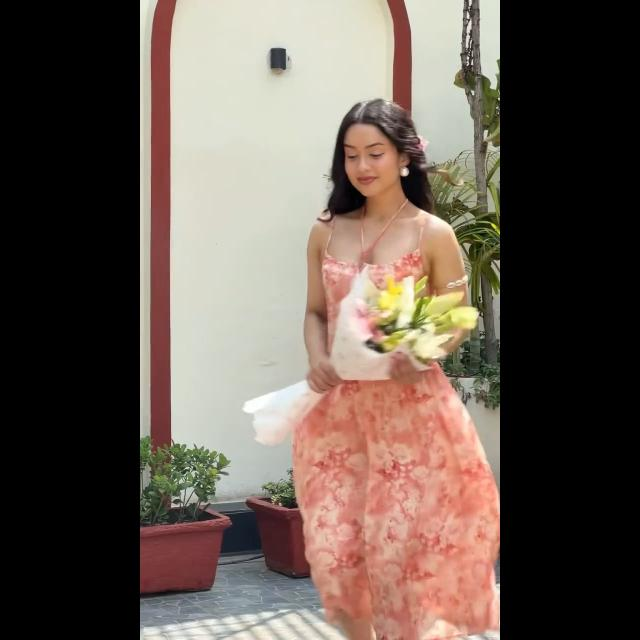dress: (300, 218, 494, 638)
ear ring: (400, 166, 412, 182)
